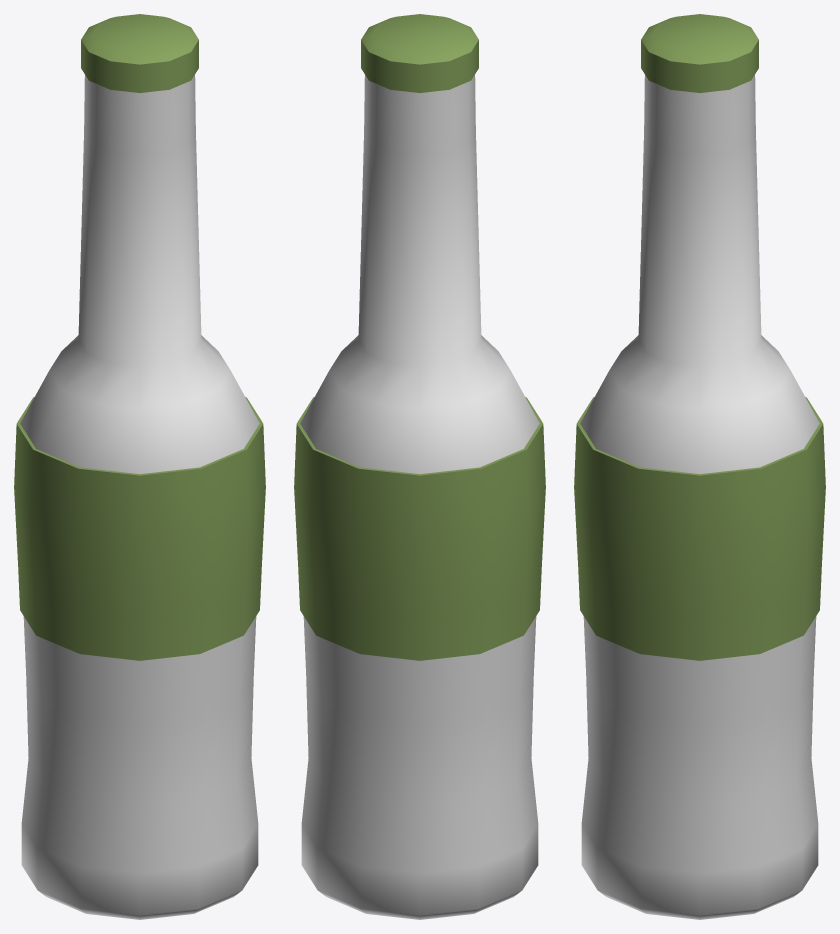
The model's file is Cider_01.fbx.
3 views of the same model, side by side, from view 1: azimuth 30°, elevation 25°; view 2: azimuth 150°, elevation 25°; view 3: azimuth 270°, elevation 25° (orthographic).
Visible parts, largest first — view 1: Cider_01; view 2: Cider_01; view 3: Cider_01.
Part boxes in pixels (x1,y1,x2,y2): Cider_01: [14, 14, 265, 919]; Cider_01: [294, 14, 545, 919]; Cider_01: [574, 14, 825, 919].
Size of the model in its own units: 0.0765 by 0.2816 by 0.0765.
